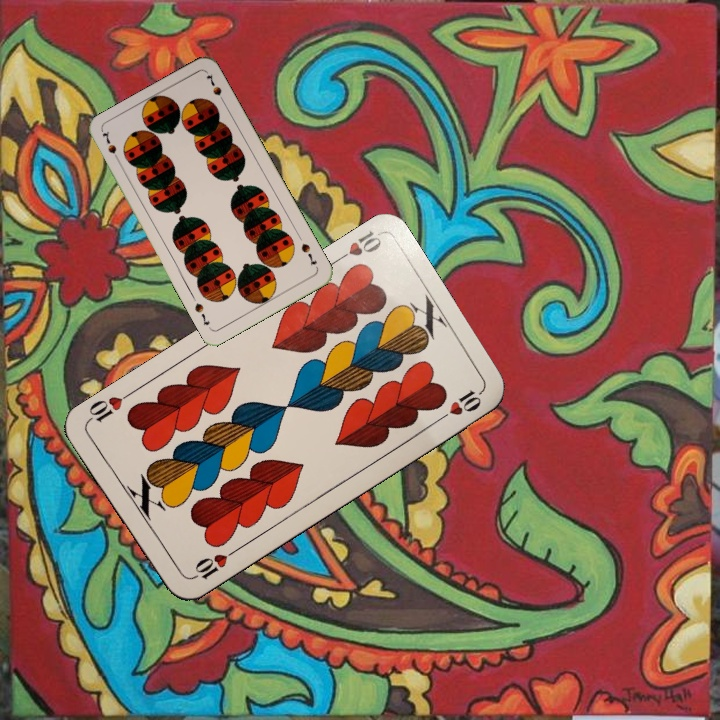H10: (329, 227, 385, 267), (186, 545, 239, 583)
S7: (98, 127, 123, 166), (297, 239, 319, 268)
